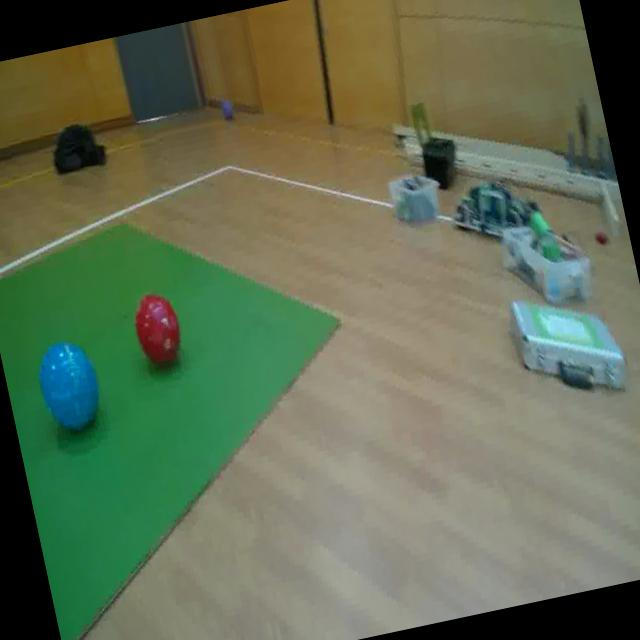blue_ball: (29, 329, 108, 439)
purple_ball: (218, 96, 235, 122)
red_ball: (126, 286, 188, 376)
